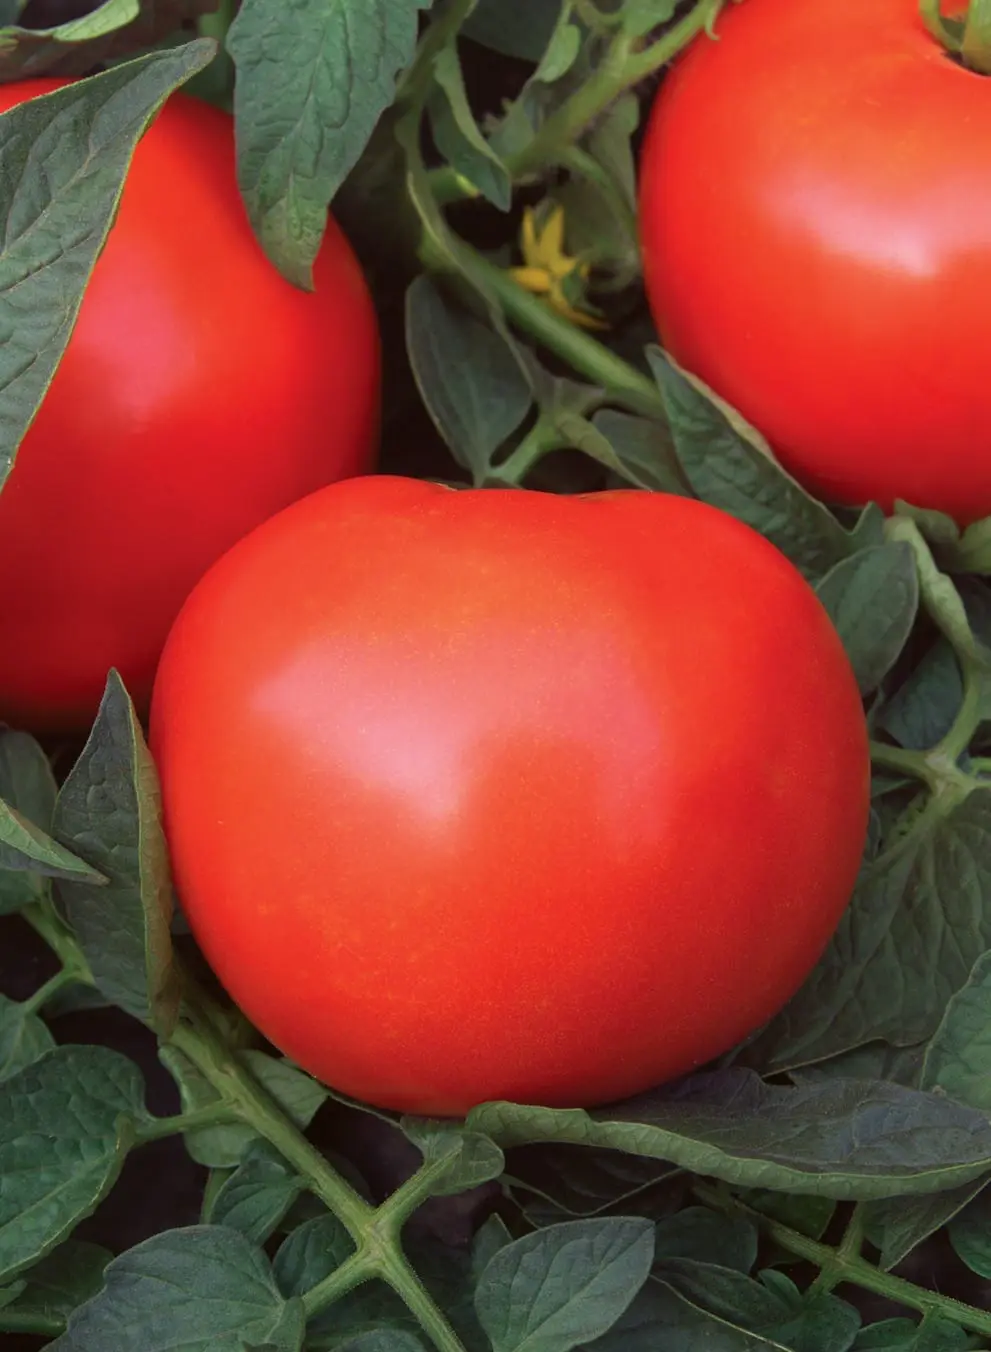tomato: (172, 423, 897, 1141)
